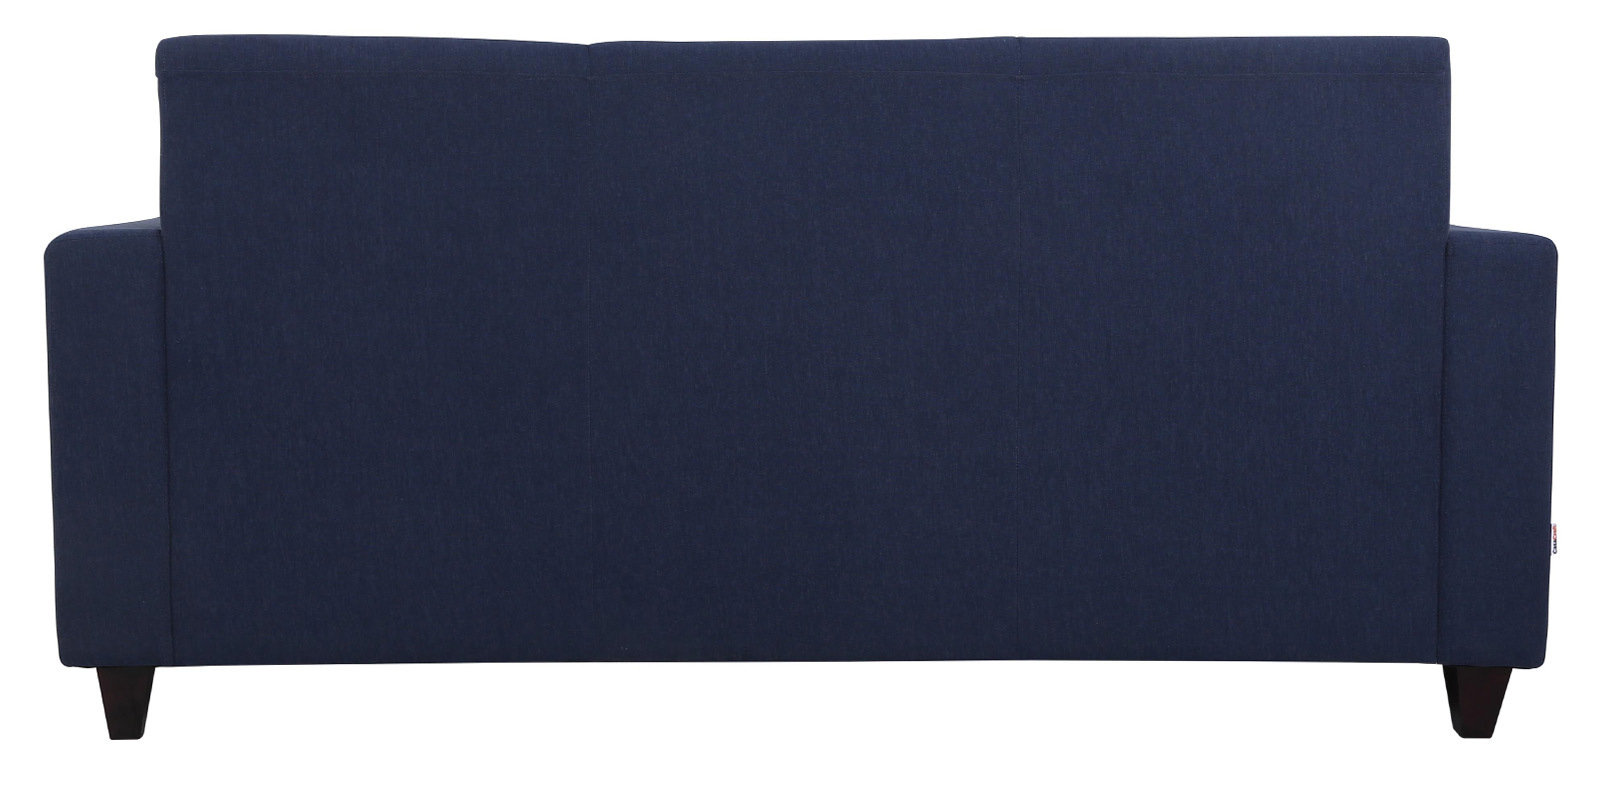Alba Three Seater Sofa in Navy Blue Colour by CasaCraft: (36, 27, 1570, 760)
